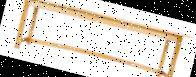Mesa: (5, 0, 192, 76)
